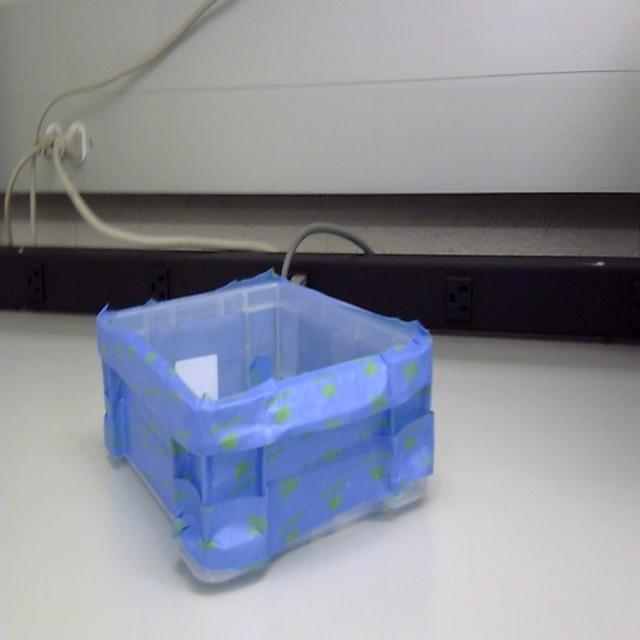bucket: (95, 273, 436, 591)
